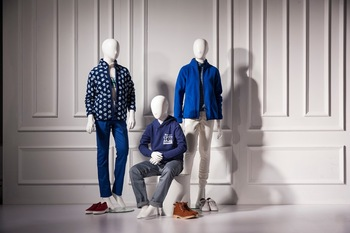person-like: (83, 36, 137, 213), (171, 36, 225, 209), (127, 92, 189, 221)
